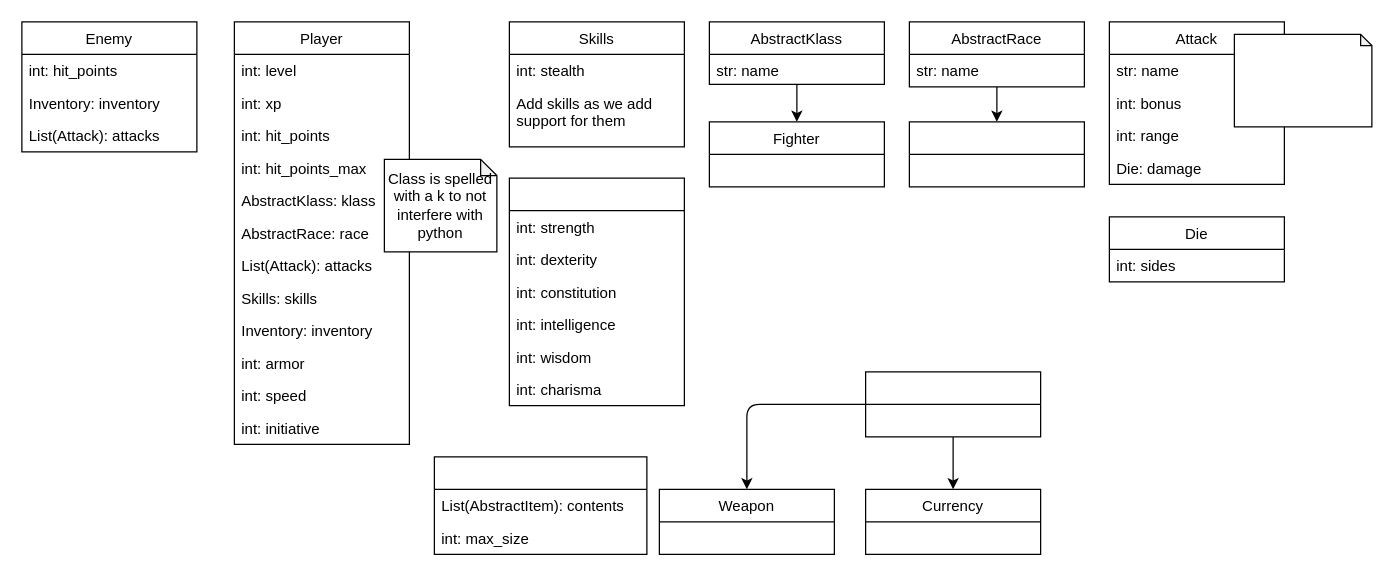
The diagram is 1394 pixels wide and 580 high, and some of its shapes have lost their labels. The shapes that lost their labels are listed below. From the top down, each one's box as (x1, y1, x2, y2) in pixels, then its label:
(1233, 33, 1372, 127): Damage is the die that gets rolled for that attack. (ex/ d8 or d10)
(908, 121, 1084, 187): Human
(508, 177, 684, 406): Stats
(864, 371, 1041, 437): AbstractItem
(433, 456, 647, 554): Inventory
